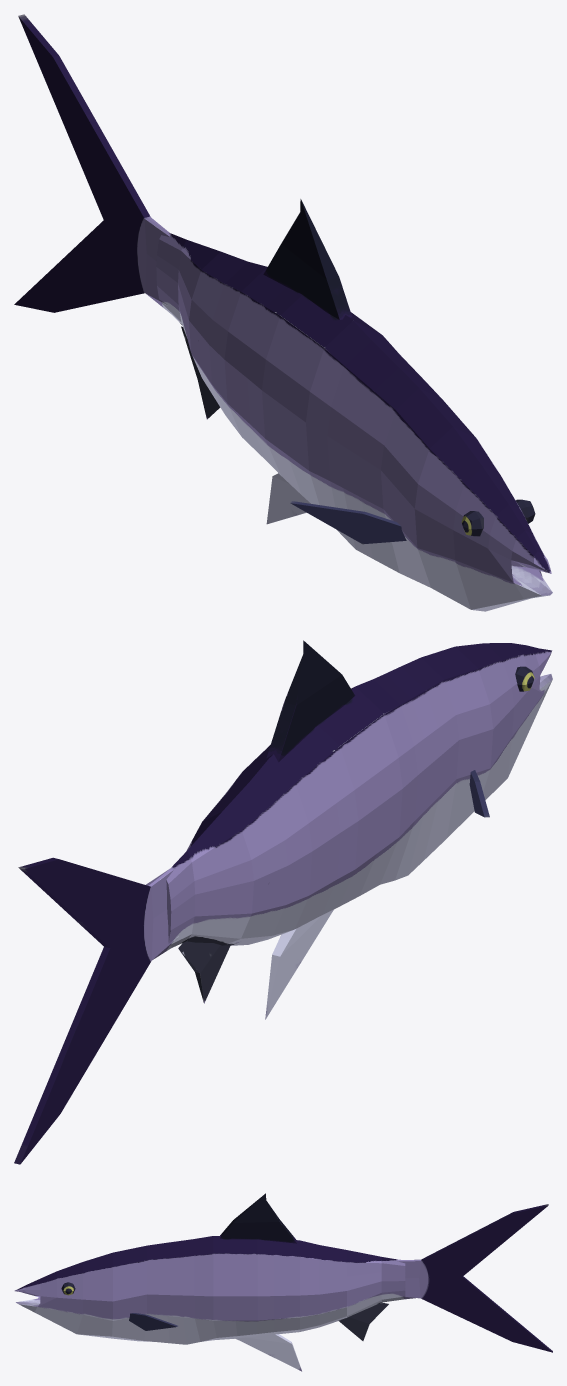
The model's file is MilkFish.glb.
3 views of the same model, one above another, from view 1: azimuth 30°, elevation 25°; view 2: azimuth 150°, elevation 25°; view 3: azimuth 270°, elevation 25° (orthographic). The views are drawn at different scales.
Parts seen in each view (by area): view 1: Body, Fins.001, Eyes; view 2: Body; view 3: Body, Fins.001.
Boxes of the visible parts, x1=… form: Body: x1=14, y1=14, x2=552, y2=611; Fins.001: x1=290, y1=501, x2=406, y2=544; Eyes: x1=461, y1=499, x2=535, y2=536; Body: x1=14, y1=640, x2=552, y2=1164; Body: x1=14, y1=1193, x2=552, y2=1371; Fins.001: x1=129, y1=1313, x2=178, y2=1330.
Size of the model in its own units: 0.3021 by 0.5155 by 1.41.
3 materials, 3 textured.
